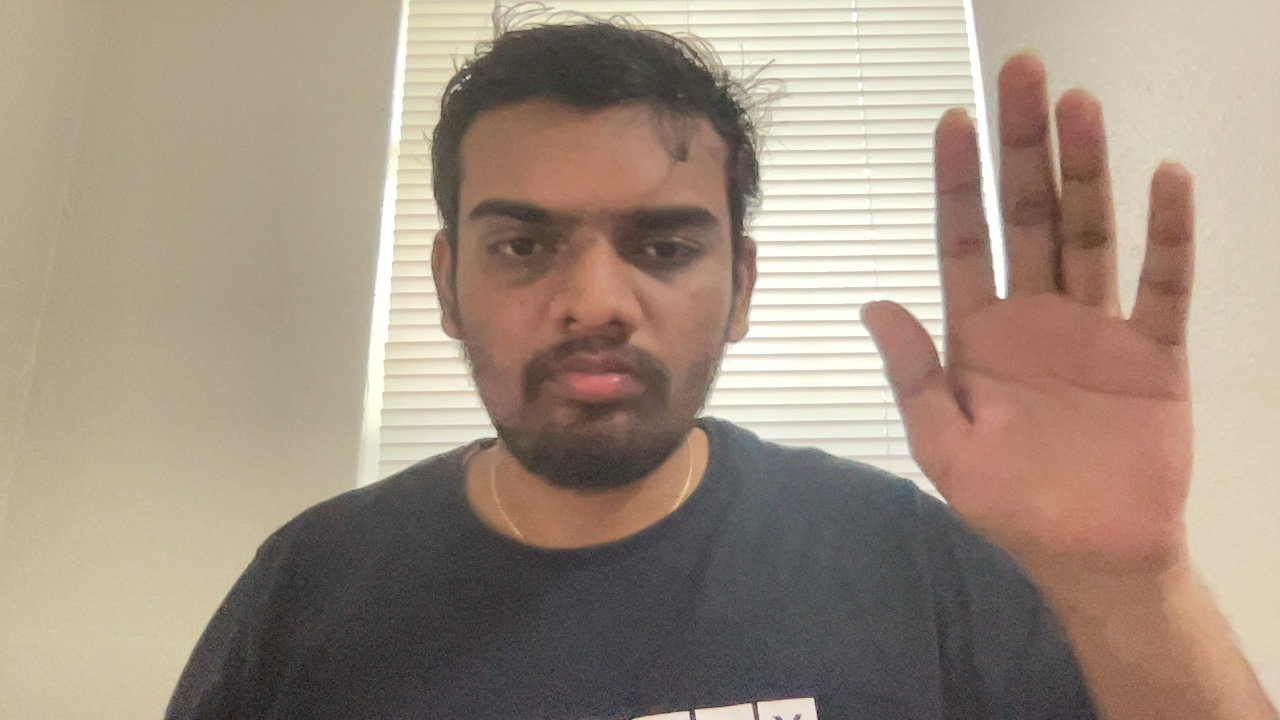hello: (855, 48, 1210, 581)
